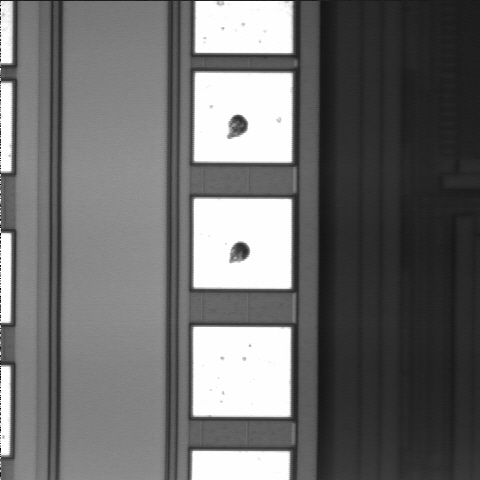pad: (194, 73, 292, 163), (193, 327, 291, 417), (194, 199, 291, 289)
